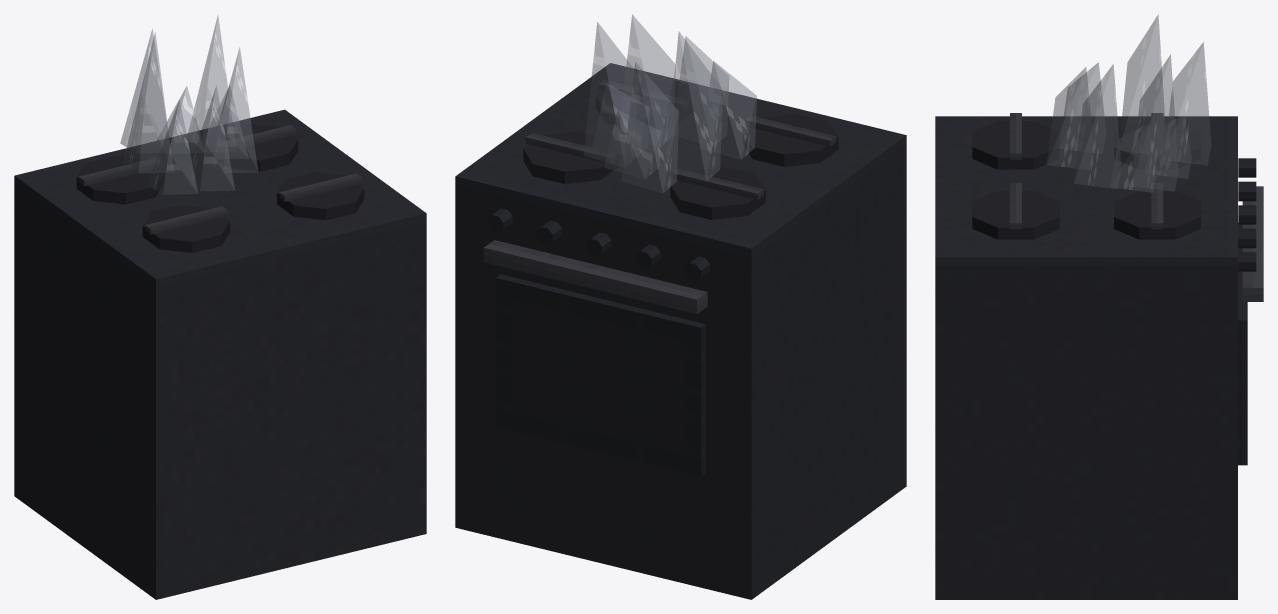
File: f_vitrified_oven.glb
3 views of the same model, side by side, from view 1: azimuth 30°, elevation 25°; view 2: azimuth 150°, elevation 25°; view 3: azimuth 270°, elevation 25° (orthographic). The views are drawn at different scales.
Parts seen in each view (by area): view 1: block_housing, block_translucent-frozen-flame (×8), block_burner--0.186-0.159, block_burner-0.186-0.159, block_burner--0.186--0.159, block_burner-0.186--0.159, block_grate-0.186-0.159, block_grate--0.186-0.159, block_grate--0.186--0.159, block_grate-0.186--0.159; view 2: block_housing, block_oven-window, block_translucent-frozen-flame (×8), block_oven-handle, block_burner--0.186-0.159, block_burner--0.186--0.159, block_burner-0.186--0.159, block_burner-0.186-0.159, block_grate--0.186-0.159, block_grate--0.186--0.159, block_grate-0.186--0.159, block_grate-0.186-0.159; view 3: block_housing, block_translucent-frozen-flame (×8), block_burner-0.186--0.159, block_burner-0.186-0.159, block_burner--0.186-0.159, block_burner--0.186--0.159, block_oven-window, block_oven-handle, block_grate-0.186--0.159, block_grate--0.186-0.159, block_grate-0.186-0.159, block_grate--0.186--0.159.
Part boxes in pixels (box(x1,y1,x2,y2)): block_housing: box(14, 109, 426, 599); block_translucent-frozen-flame (×8): box(120, 15, 258, 194); block_burner--0.186-0.159: box(142, 205, 230, 252); block_burner-0.186-0.159: box(277, 172, 364, 220); block_burner--0.186--0.159: box(76, 156, 163, 204); block_burner-0.186--0.159: box(211, 123, 298, 171); block_grate-0.186-0.159: box(279, 173, 362, 201); block_grate--0.186-0.159: box(145, 206, 227, 234); block_grate--0.186--0.159: box(78, 158, 161, 186); block_grate-0.186--0.159: box(218, 125, 295, 152); block_housing: box(455, 63, 906, 599); block_oven-window: box(496, 274, 705, 476); block_translucent-frozen-flame (×8): box(583, 14, 756, 193); block_oven-handle: box(483, 240, 707, 314); block_burner--0.186-0.159: box(742, 114, 838, 166); block_burner--0.186--0.159: box(670, 167, 765, 219); block_burner-0.186--0.159: box(523, 131, 618, 184); block_burner-0.186-0.159: box(596, 78, 691, 128); block_grate--0.186-0.159: box(745, 115, 836, 146); block_grate--0.186--0.159: box(672, 169, 763, 199); block_grate-0.186--0.159: box(525, 133, 616, 163); block_grate-0.186-0.159: box(598, 80, 688, 110); block_housing: box(935, 116, 1237, 599); block_translucent-frozen-flame (×8): box(1046, 14, 1211, 192); block_burner-0.186--0.159: box(1114, 191, 1200, 239); block_burner-0.186-0.159: box(972, 191, 1059, 239); block_burner--0.186-0.159: box(972, 121, 1059, 169); block_burner--0.186--0.159: box(1114, 121, 1200, 169); block_oven-window: box(1238, 223, 1247, 465); block_oven-handle: box(1242, 186, 1263, 301); block_grate-0.186--0.159: box(1151, 183, 1163, 229); block_grate--0.186-0.159: box(1010, 113, 1021, 159); block_grate-0.186-0.159: box(1010, 183, 1021, 229); block_grate--0.186--0.159: box(1151, 113, 1162, 159).
Size of the model in its own units: 0.75 by 1.24 by 0.7375.
2 materials, 2 textured.
